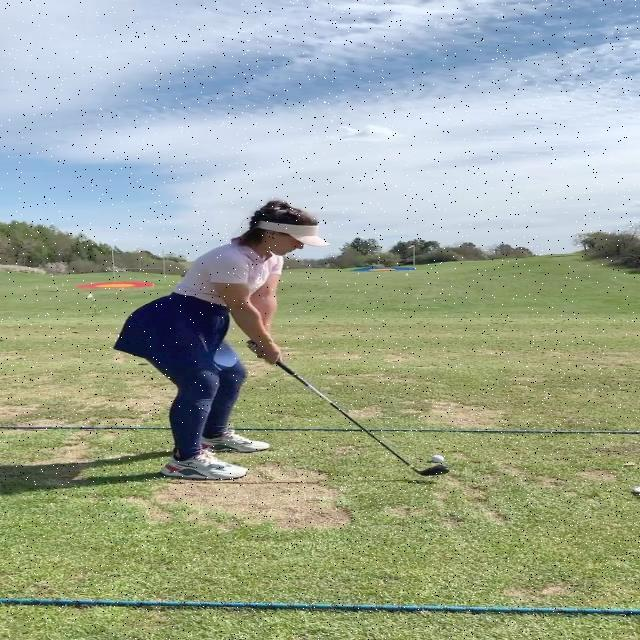ClubHead: (418, 464, 453, 479)
GolfBall: (430, 454, 445, 464)
